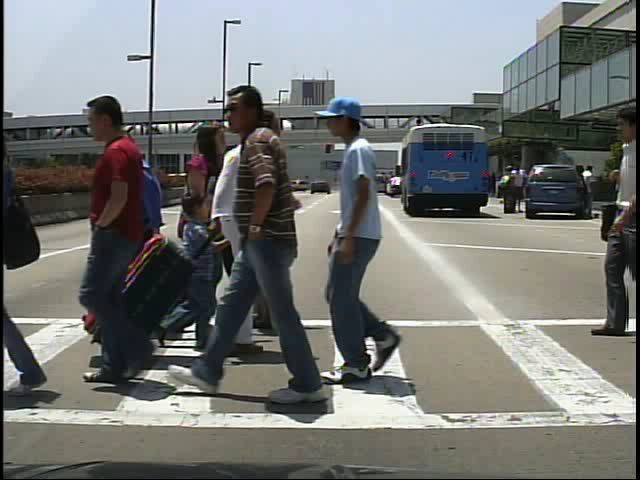person: (206, 84, 344, 424), (65, 91, 177, 389), (172, 102, 286, 363), (327, 104, 425, 384), (93, 122, 178, 343), (226, 134, 302, 331), (188, 129, 261, 322), (176, 120, 234, 361), (174, 188, 216, 319), (582, 163, 602, 218), (498, 166, 516, 219), (513, 165, 529, 215)
